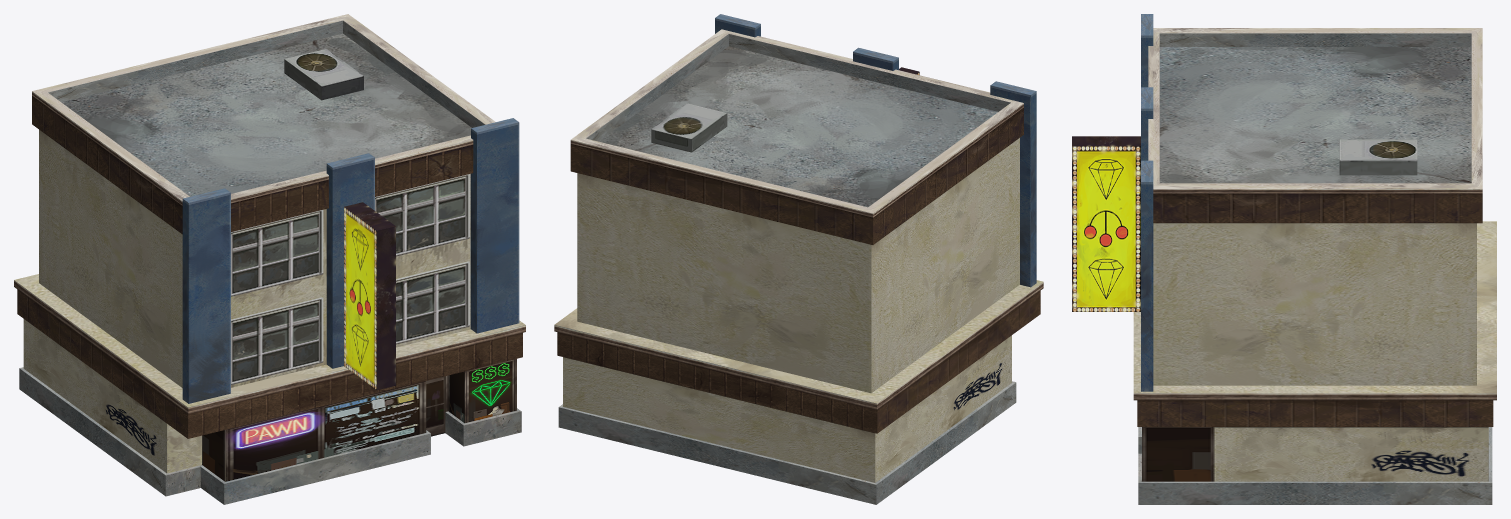
3 renders of one model, left to right at view 1: azimuth 30°, elevation 25°; view 2: azimuth 150°, elevation 25°; view 3: azimuth 270°, elevation 25°, orthographic. The views are drawn at different scales.
Parts seen in each view (by area): view 1: pasted__pCube81_Pawnshop_0; view 2: pasted__pCube81_Pawnshop_0; view 3: pasted__pCube81_Pawnshop_0.
Boxes of the visible parts, left/top/right/bottom form: pasted__pCube81_Pawnshop_0: left=14, top=14, right=525, bottom=504; pasted__pCube81_Pawnshop_0: left=554, top=14, right=1043, bottom=504; pasted__pCube81_Pawnshop_0: left=1072, top=14, right=1496, bottom=504.
Bounding box in the file's own units: 8.79 × 7.69 × 9.18.
Materials: 2 (2 with a texture image).
